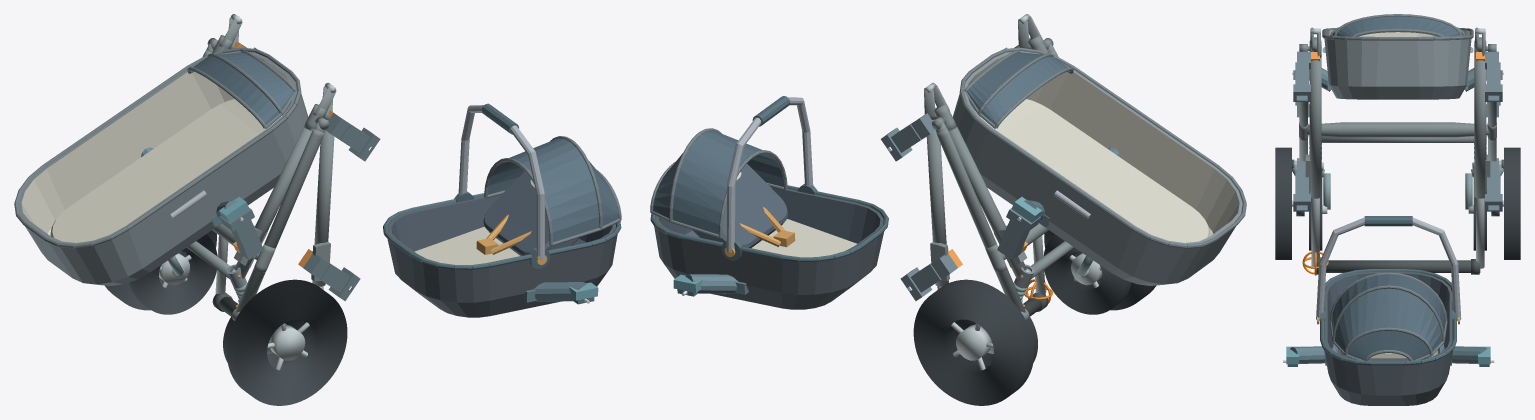
The model's file is D07_w550_state3_wheel_M.glb.
The picture shows the model from 3 angles, left to right: view 1: azimuth 30°, elevation 25°; view 2: azimuth 150°, elevation 25°; view 3: azimuth 270°, elevation 25°; orthographic projection. The views are drawn at different scales.
Visible parts, largest first — view 1: D07_Lower, D07_Upper, RL_tire.004, FR_tire.004, V46_rear_leg_-1.005, main_lower_-1.005, main_upper_-1.005, D07_Upper_Mount_H, Universal_Cabin_Receiver_H_-1, Universal_Cabin_Receiver_M_-1, Universal_Cabin_Receiver_L_-1, RL_sealed_hub.004 (+4 smaller); view 2: D07_Lower, D07_Upper, RR_tire.004, FL_tire.004, V46_rear_leg_1.005, main_lower_1.005, main_upper_1.005, D07_Upper_Mount_H, Universal_Cabin_Receiver_H_1, Universal_Cabin_Receiver_M_1, Universal_Cabin_Receiver_L_1, RR_sealed_hub.004 (+5 smaller); view 3: D07_Upper, D07_Lower, V46_rearbar.005, RL_tire.004, RR_tire.004, main_upper_1.005, main_upper_-1.005, D07_Upper_Mount_H, round_handle.004, front_fixed_round_tube.004, Universal_Cabin_Receiver_M_1, Universal_Cabin_Receiver_M_-1 (+12 smaller).
Part boxes in pixels (x1,y1,x2,y2): D07_Lower: [14, 47, 308, 285]; D07_Upper: [383, 103, 621, 317]; RL_tire.004: [227, 279, 347, 405]; FR_tire.004: [129, 234, 217, 314]; V46_rear_leg_-1.005: [235, 128, 324, 312]; main_lower_-1.005: [234, 125, 315, 278]; main_upper_-1.005: [312, 120, 334, 286]; D07_Upper_Mount_H: [523, 282, 598, 304]; Universal_Cabin_Receiver_H_-1: [303, 254, 360, 301]; Universal_Cabin_Receiver_M_-1: [325, 113, 380, 161]; Universal_Cabin_Receiver_L_-1: [220, 208, 263, 259]; RL_sealed_hub.004: [269, 325, 305, 360]; D07_Lower: [953, 47, 1246, 285]; D07_Upper: [650, 96, 888, 309]; RR_tire.004: [913, 279, 1034, 405]; FL_tire.004: [1043, 234, 1131, 314]; V46_rear_leg_1.005: [936, 128, 1025, 312]; main_lower_1.005: [945, 125, 1026, 278]; main_upper_1.005: [926, 119, 948, 286]; D07_Upper_Mount_H: [673, 274, 748, 296]; Universal_Cabin_Receiver_H_1: [900, 254, 957, 300]; Universal_Cabin_Receiver_M_1: [881, 113, 935, 161]; Universal_Cabin_Receiver_L_1: [997, 208, 1041, 259]; RR_sealed_hub.004: [956, 325, 991, 360]; D07_Upper: [1316, 216, 1461, 405]; D07_Lower: [1322, 14, 1473, 99]; V46_rearbar.005: [1306, 122, 1489, 137]; RL_tire.004: [1275, 147, 1291, 259]; RR_tire.004: [1504, 147, 1520, 259]; main_upper_1.005: [1474, 57, 1486, 198]; main_upper_-1.005: [1309, 57, 1321, 198]; D07_Upper_Mount_H: [1283, 343, 1494, 366]; round_handle.004: [1326, 260, 1480, 272]; front_fixed_round_tube.004: [1321, 136, 1474, 142]; Universal_Cabin_Receiver_M_1: [1485, 51, 1502, 101]; Universal_Cabin_Receiver_M_-1: [1293, 51, 1310, 101].
Bounding box in the file's own units: 1.53 × 0.7426 × 0.656.
